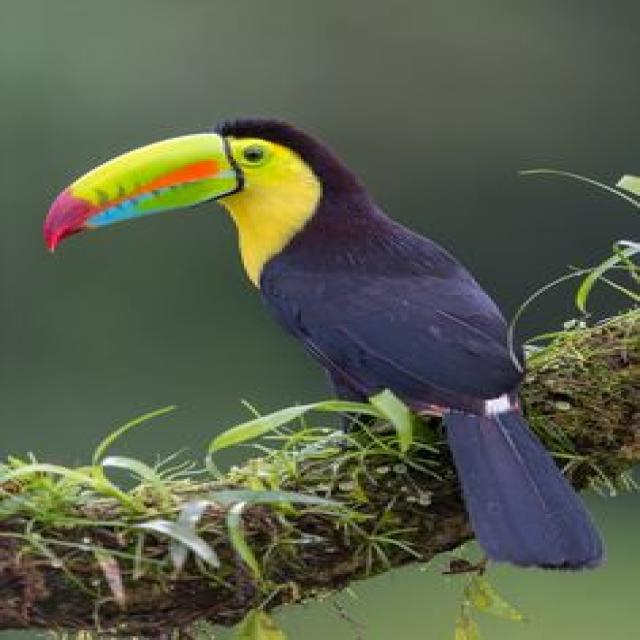Herbivorous: (43, 118, 605, 570)
